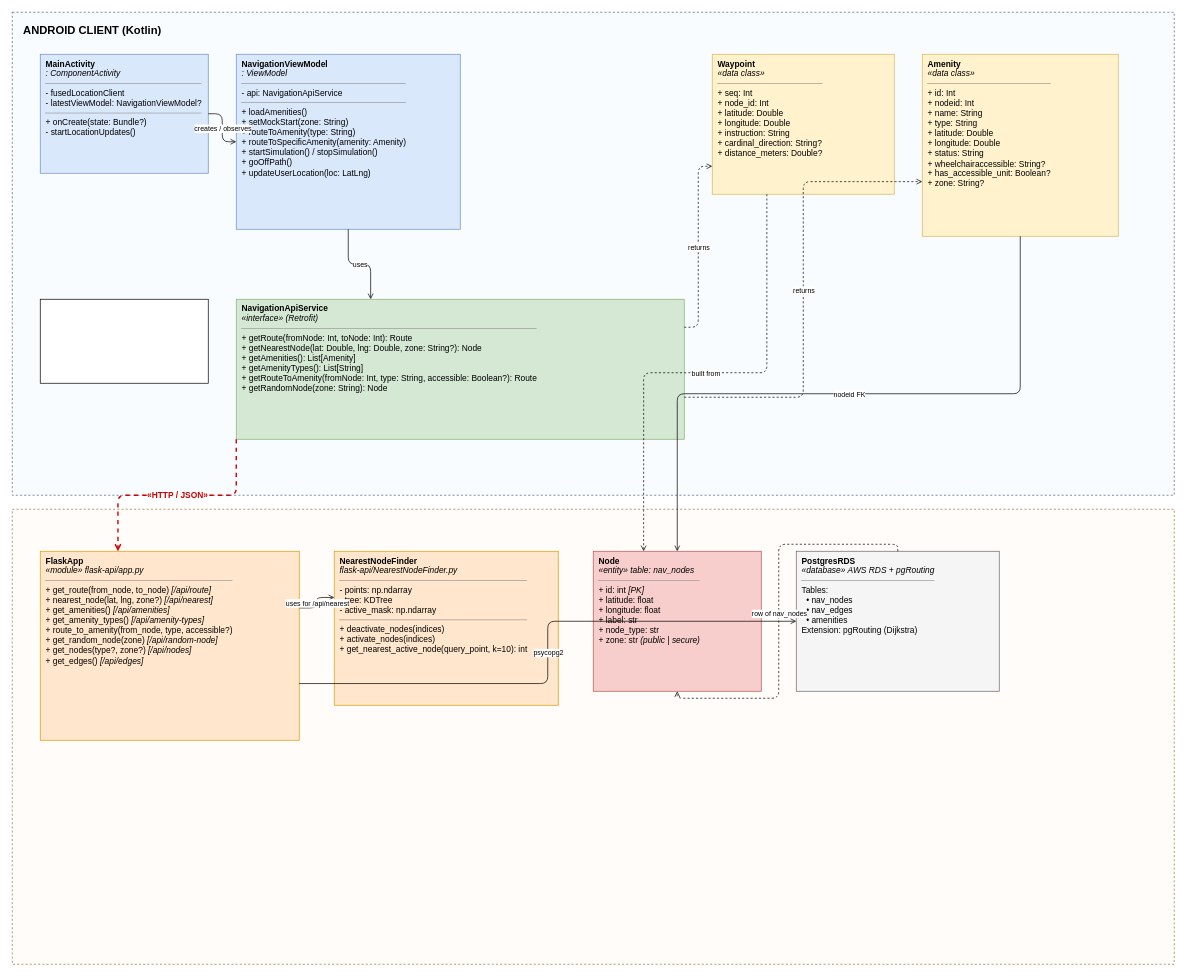
Some shapes in this 1187 by 977 pixel diagram are drawn without their labels. Here are the shapes that lost their labels. From the top down, the box of each, then its label:
(40, 299, 208, 383): Legend ——→ uses / association - - -→ dependency ◊—— composition
(12, 509, 1174, 964): FLASK API + DATABASE (Python / PostgreSQL)
